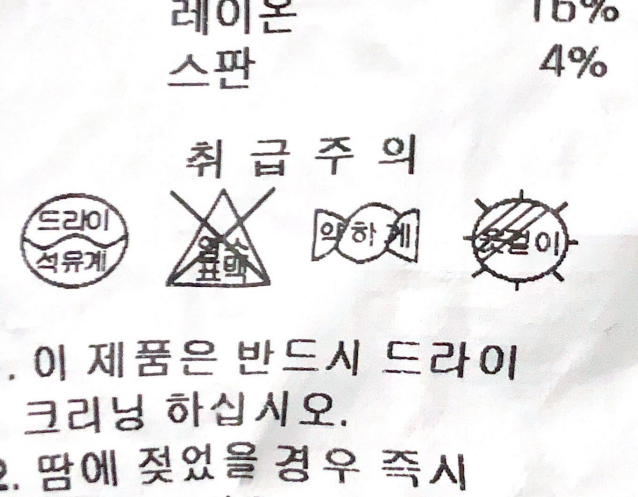KR_dry_clean_petroleum: (10, 188, 135, 296)
KR_gentle_wring: (295, 193, 428, 278)
KR_hang_dry_in_shade: (457, 184, 579, 296)
KR_no_chlorine_bleach: (157, 180, 274, 299)
